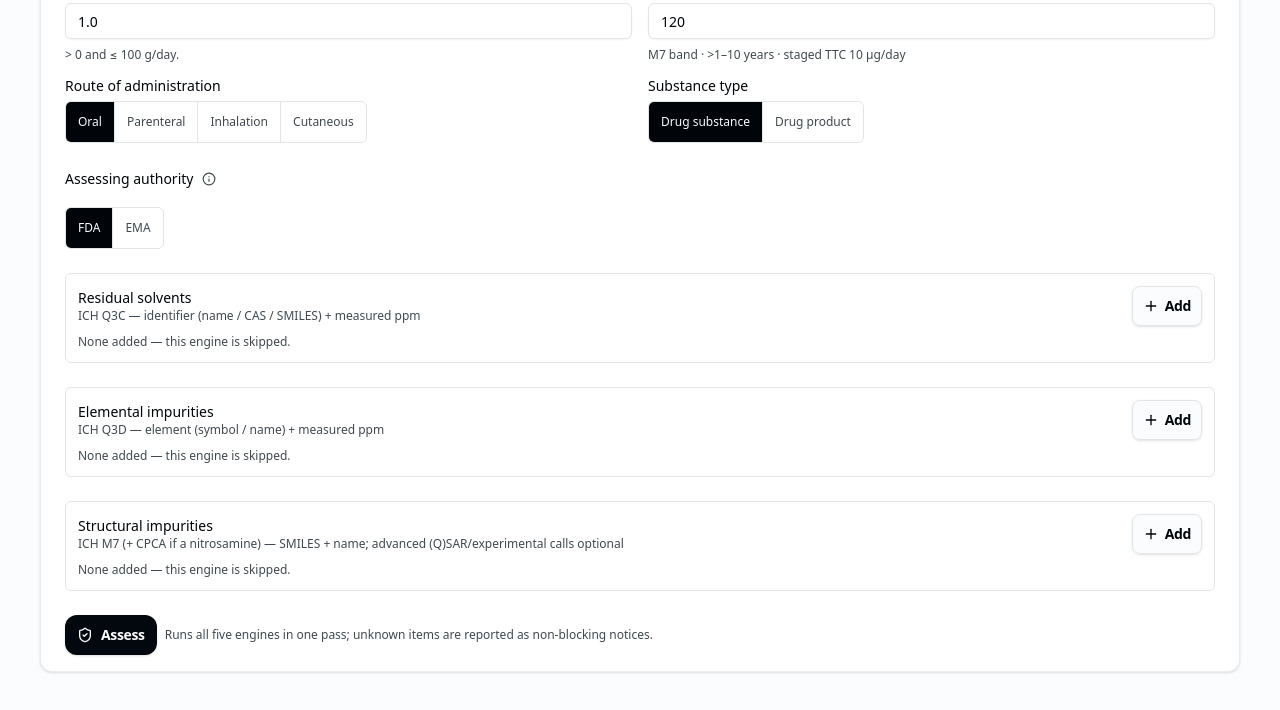
Scenario: ImpurityAssessmentWorkspace › shows which authority's limit was applied, next to the limit it changed
The image size is (1280, 710).
(page scrolled)
Click the button "Assess": [111, 635] box [65,615,157,655]
(page scrolled)
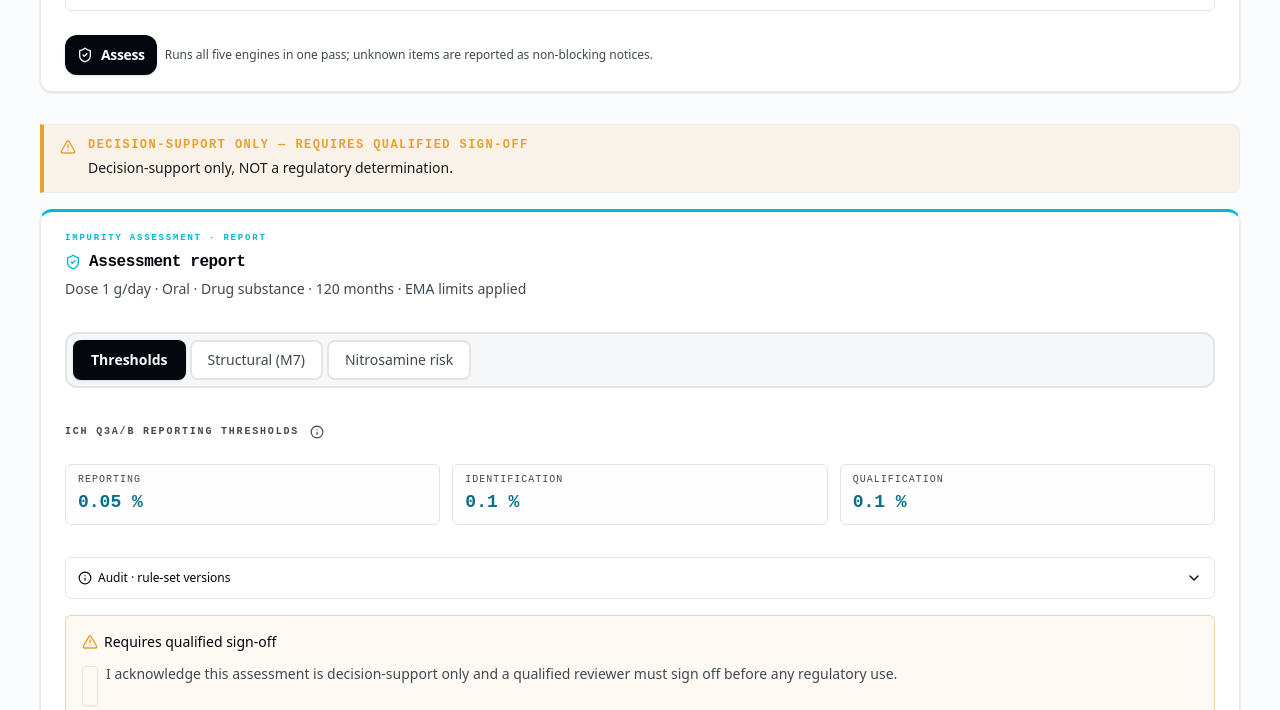
Expected: the heading "Assessment report" is shown, [89,250,245,274]
Expected: the text "EMA limits applied" is shown, [65,278,526,298]
Click the tab "Structural (M7)": [256, 360] box [190,340,323,380]
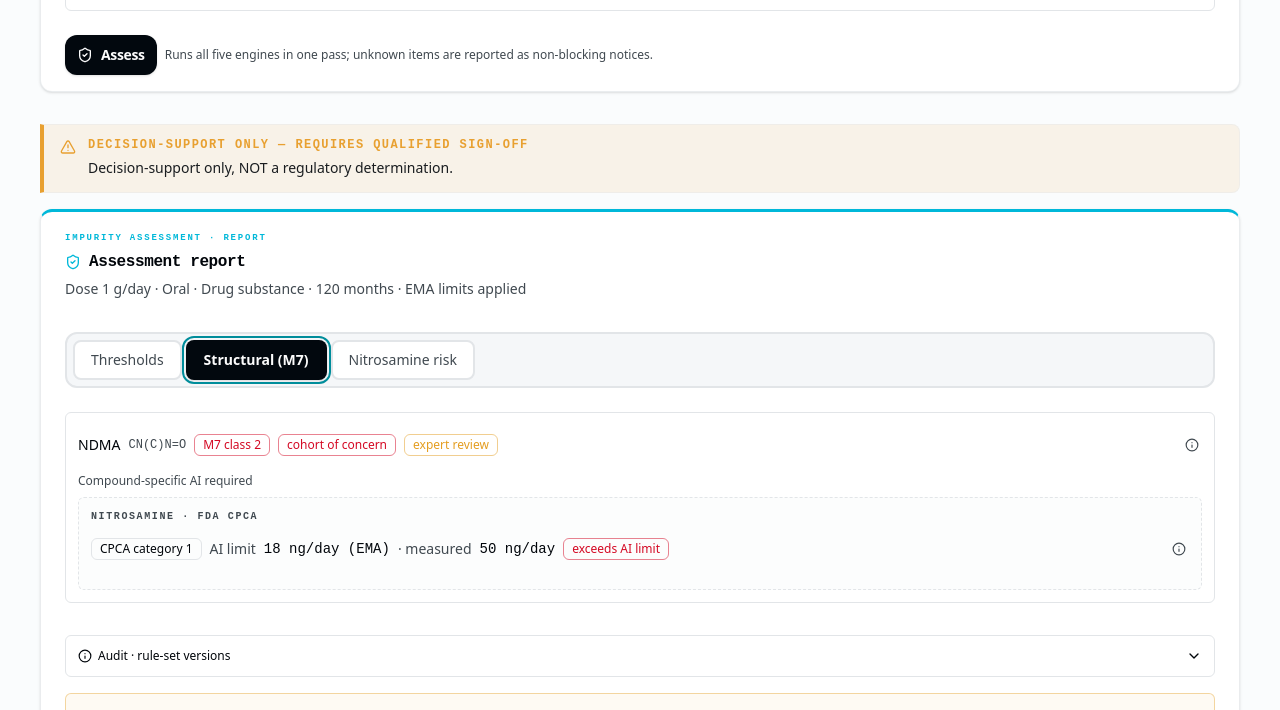
Expected: the text "18 ng/day (EMA)" is shown, [264,538,390,558]
